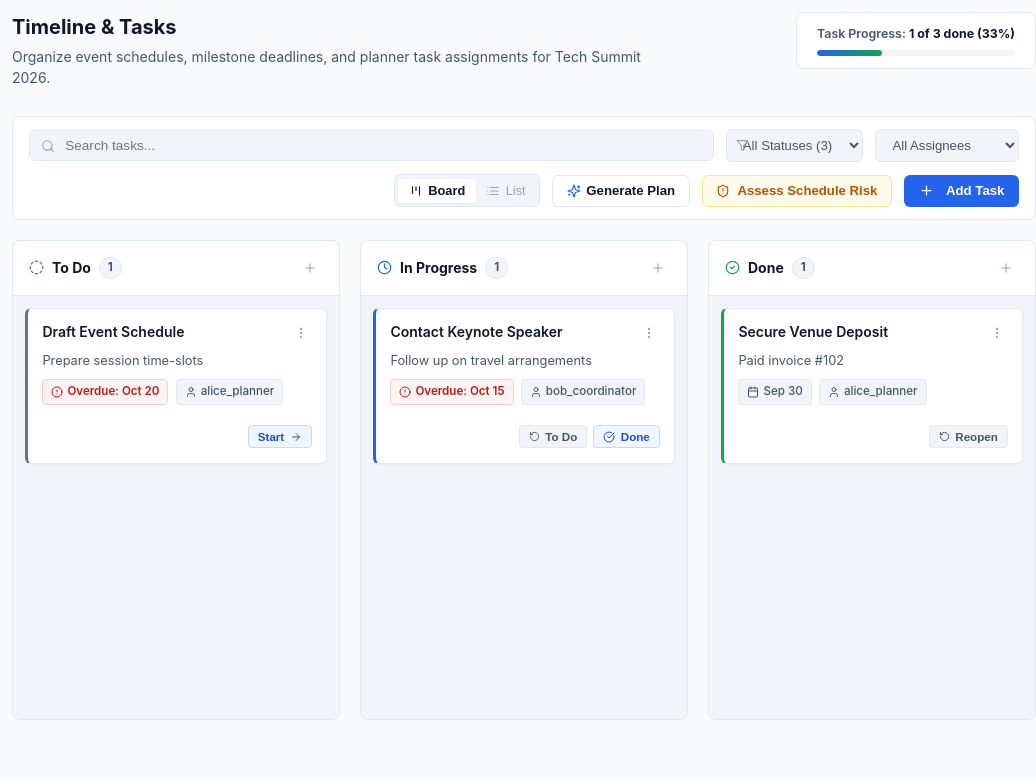
Scenario: EventTimelineTab & Task Management (Epic 3.3) › filters tasks by status dropdown
The width and height of the screenshot is (1036, 780).
Select "Done (1)" in the dropdown named "Filter tasks by status". click: (795, 146)
box: [726,129,863,162]
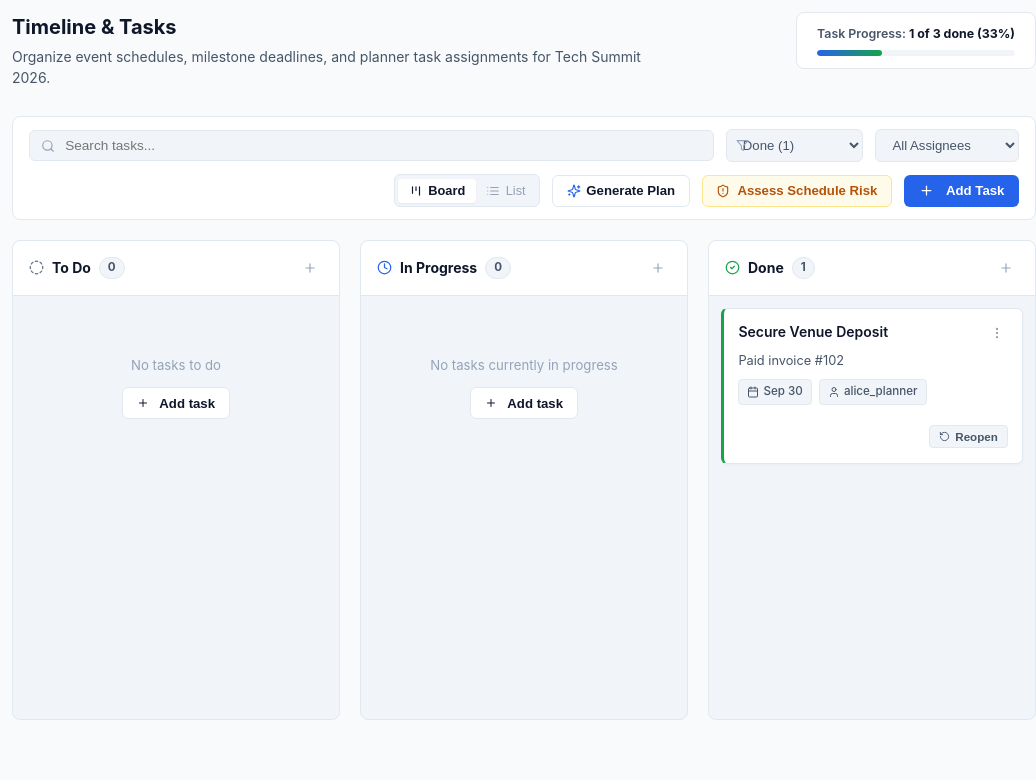
Expected: the heading "Secure Venue Deposit" is shown, [738,323,888,342]
Now the heading "Draft Event Schedule" is gone
